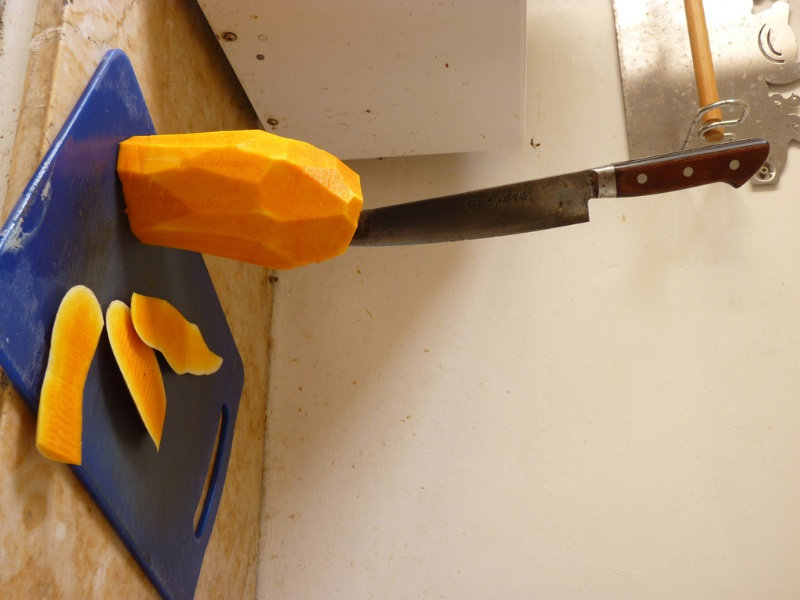knife: (302, 139, 772, 250)
